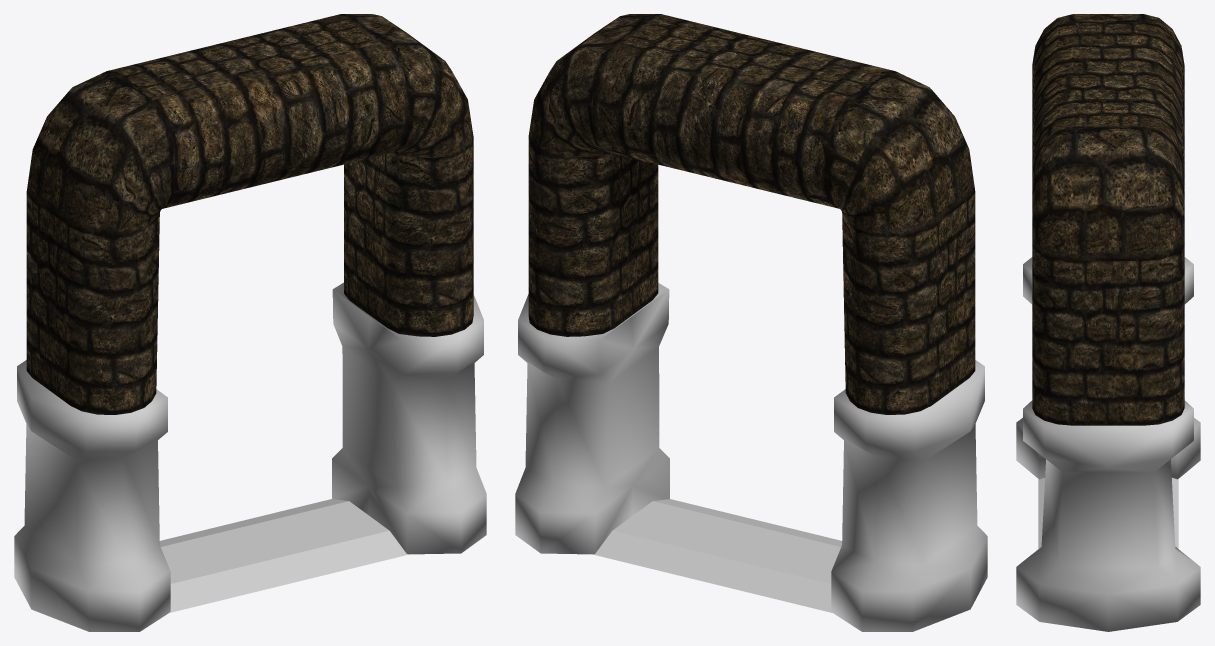
Rendered from door_frame_plain_worn.dae.
The picture shows the model from 3 angles, left to right: view 1: azimuth 30°, elevation 25°; view 2: azimuth 150°, elevation 25°; view 3: azimuth 270°, elevation 25°; orthographic projection. The views are drawn at different scales.
Visible parts, largest first — view 1: polySurface135, polySurface137; view 2: polySurface135, polySurface137; view 3: polySurface135, polySurface137.
Boxes of the visible parts, x1,y1,x2,y2 form: polySurface135: (26, 14, 473, 414); polySurface137: (14, 282, 486, 631); polySurface135: (528, 14, 975, 414); polySurface137: (515, 283, 987, 631); polySurface135: (1032, 14, 1184, 425); polySurface137: (1016, 257, 1200, 631).
Size of what is drawn, in the model's own units: 333 by 359 by 131.
